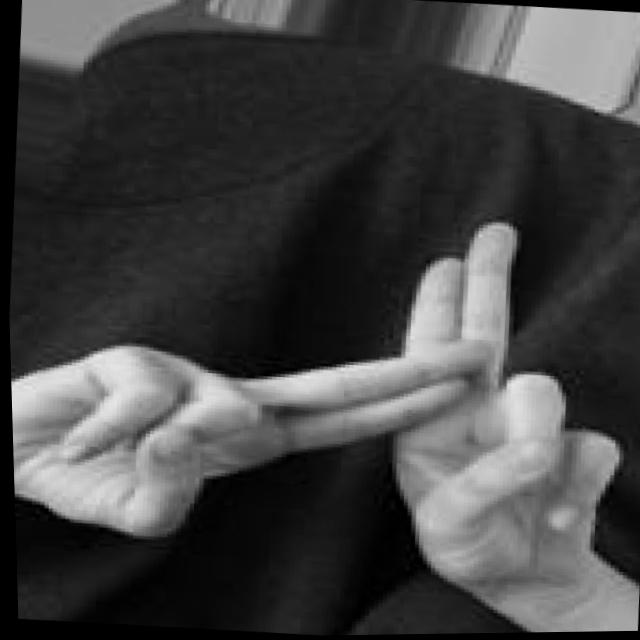K: (6, 179, 640, 640)
